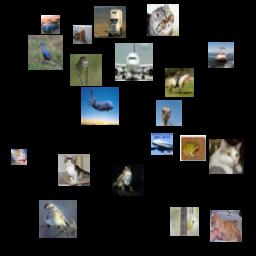airplane: (115, 43, 153, 81), (81, 87, 119, 125), (151, 133, 173, 155)
automobile: (41, 15, 60, 34)
bird: (39, 200, 77, 238), (28, 35, 63, 70), (70, 54, 102, 86), (170, 207, 199, 236), (156, 100, 182, 126)
cat: (209, 139, 244, 174), (58, 154, 90, 186), (147, 4, 179, 36), (210, 210, 242, 242), (11, 149, 27, 165)
dog: (73, 25, 92, 44)
frog: (112, 164, 144, 196), (180, 135, 206, 161)
ship: (208, 42, 234, 68)
truck: (94, 6, 126, 38)
